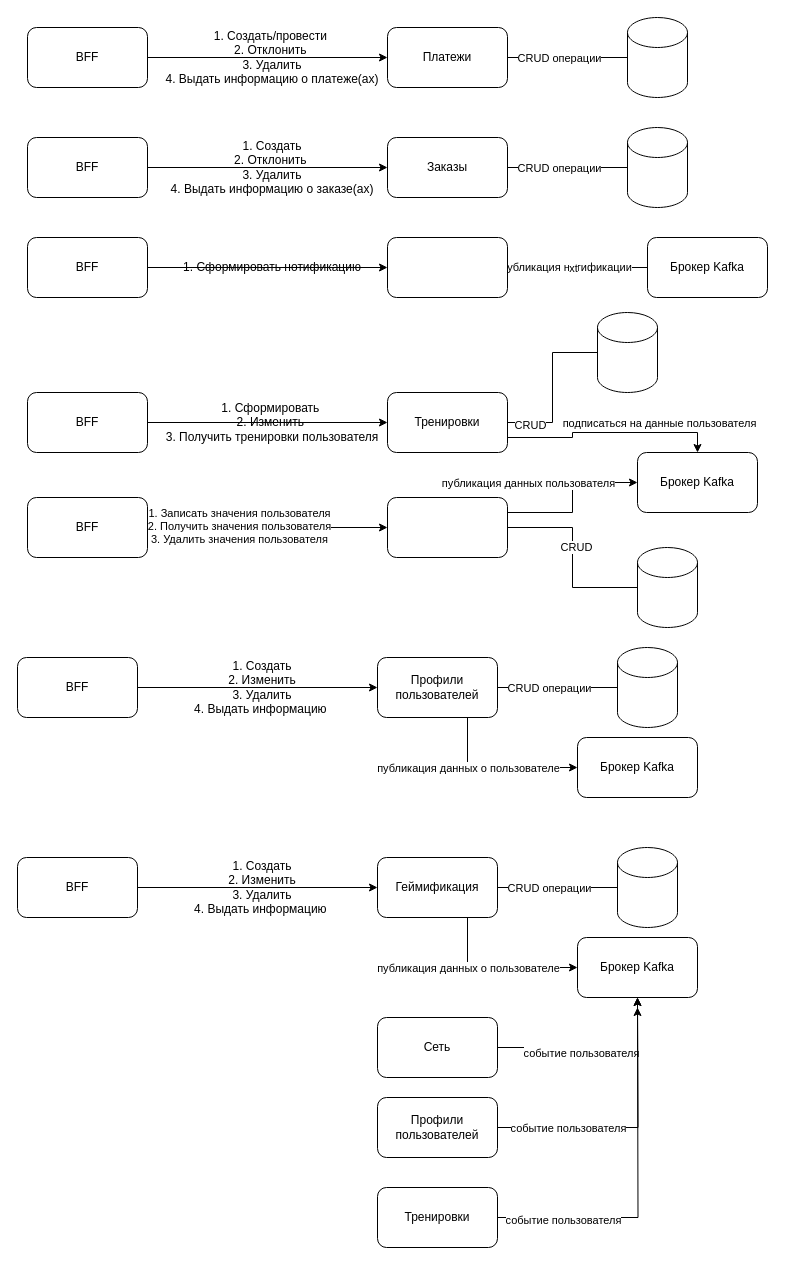
Image size: 785x1265. Some labels were removed from this diagram. The shapes that lost their labels are listed below. From the top down, each one's box as (x1, y1, x2, y2) in pixels, then its label:
(386, 236, 508, 298): Нотификации
(386, 496, 508, 558): Датчики
